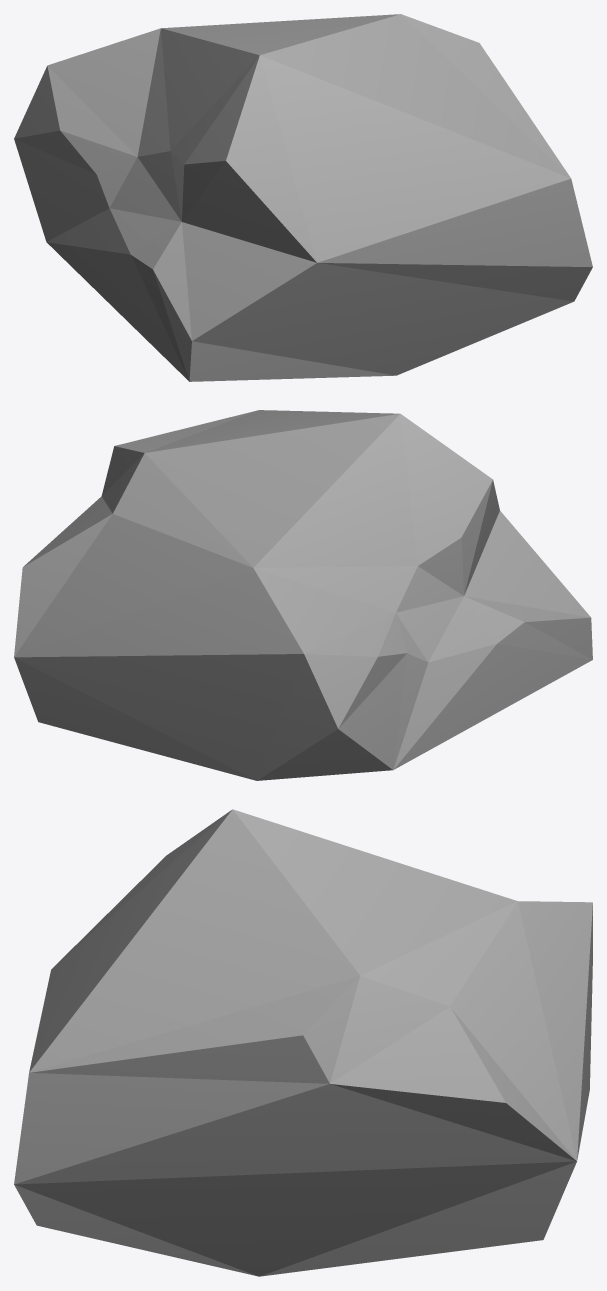
File: stone small 15.fbx
3 renders of one model, top to bottom at view 1: azimuth 30°, elevation 25°; view 2: azimuth 150°, elevation 25°; view 3: azimuth 270°, elevation 25°, orthographic. The views are drawn at different scales.
Visible parts, largest first — view 1: stone small 15; view 2: stone small 15; view 3: stone small 15.
Boxes of the visible parts, x1,y1,x2,y2 form: stone small 15: [14, 14, 592, 381]; stone small 15: [14, 410, 592, 780]; stone small 15: [14, 809, 592, 1276].
Size of the model in its own units: 46.45 by 35.38 by 51.9.
